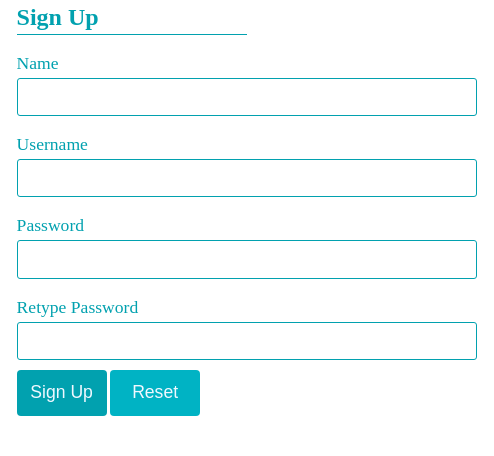
it: SignUpForm › Password is wrong, too short
Type "passwo" into the 1st password field named "password" at x=247, y=260, box [17,240,477,279]
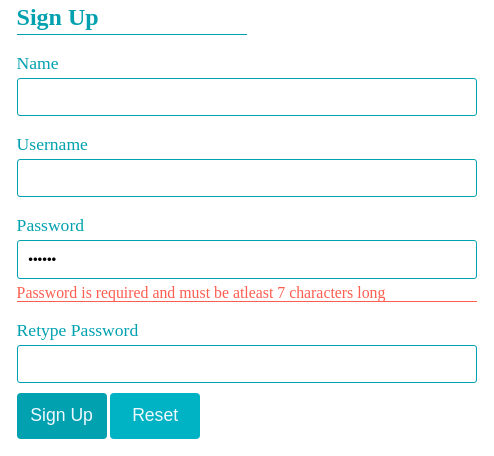
Expected: the text "Password is required and must be atleast 7 characters long" is shown, [17,285,477,302]
